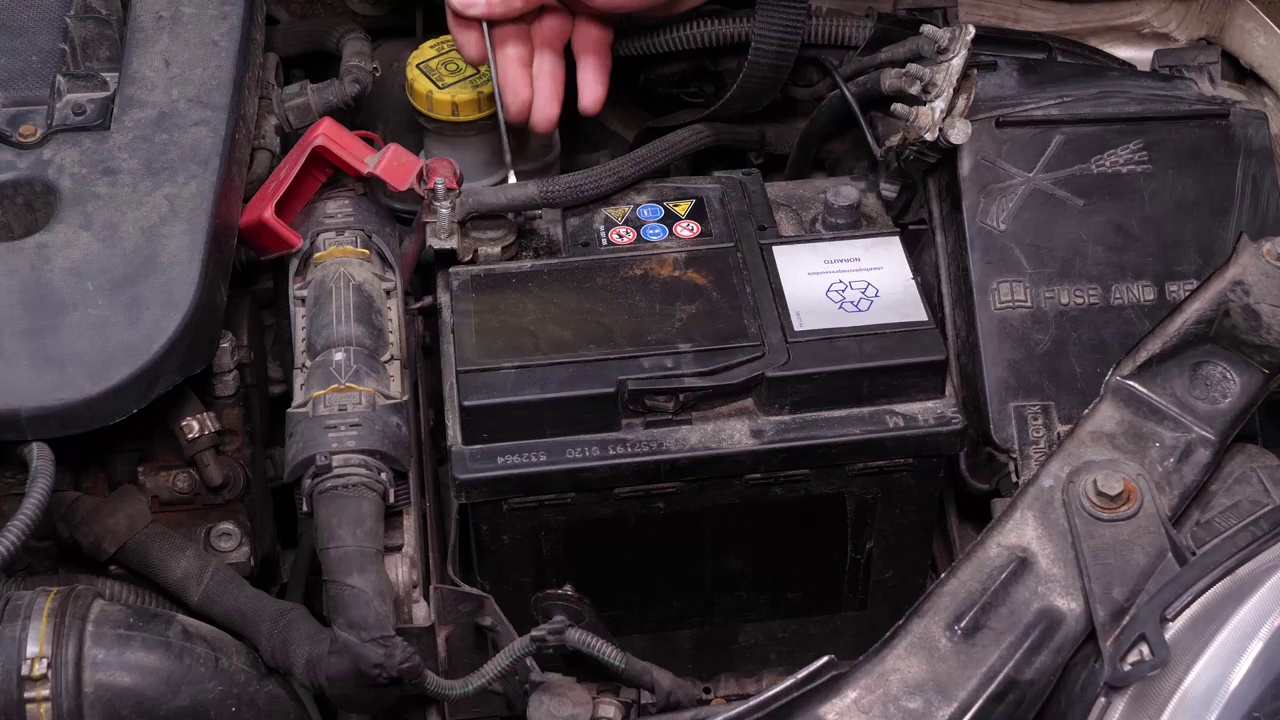battery: (418, 164, 949, 388)
neg_disconnected: (786, 166, 898, 235)
pos_connected: (321, 120, 472, 256)
